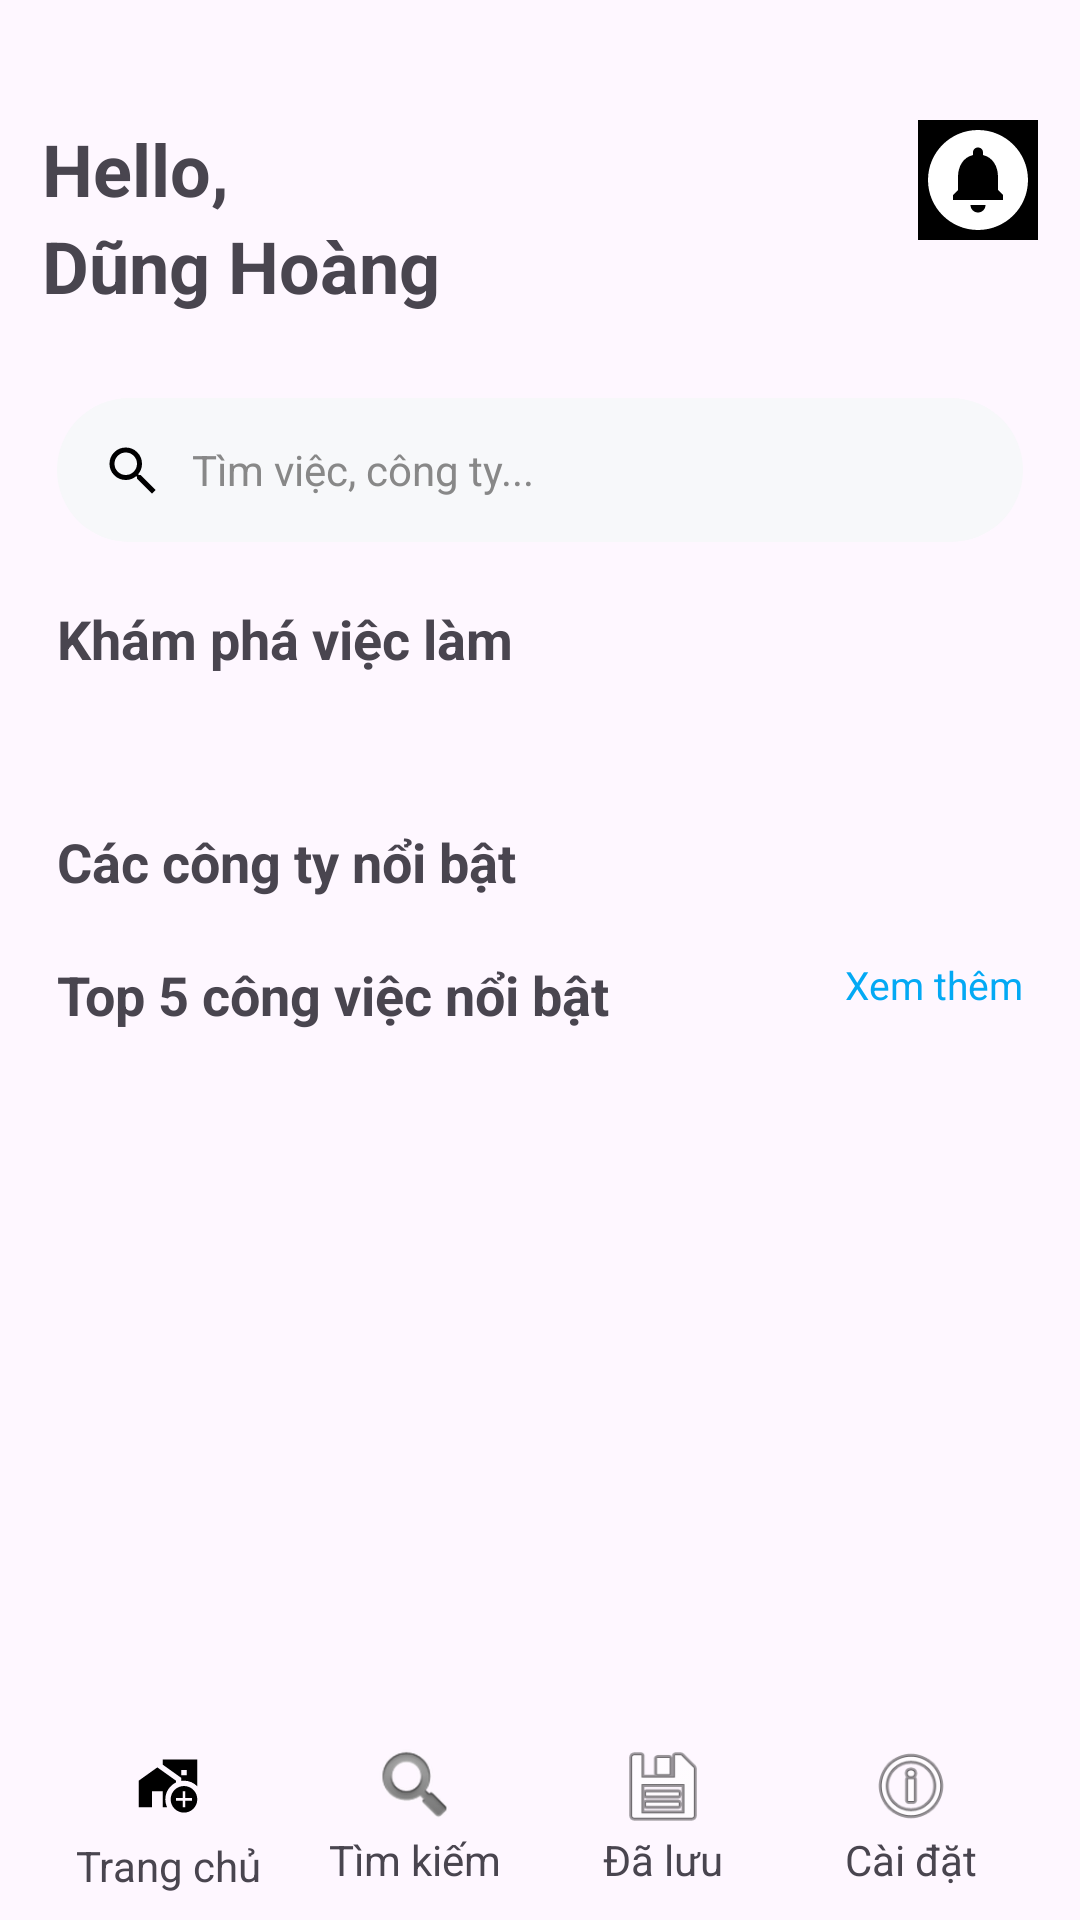

Icons on this 1080×1920 Android screen, each with its box as (x1,y1,x2,y2):
bell: (918,120,1038,240)
info details: (878,1754,944,1819)
search: (109,447,156,494)
